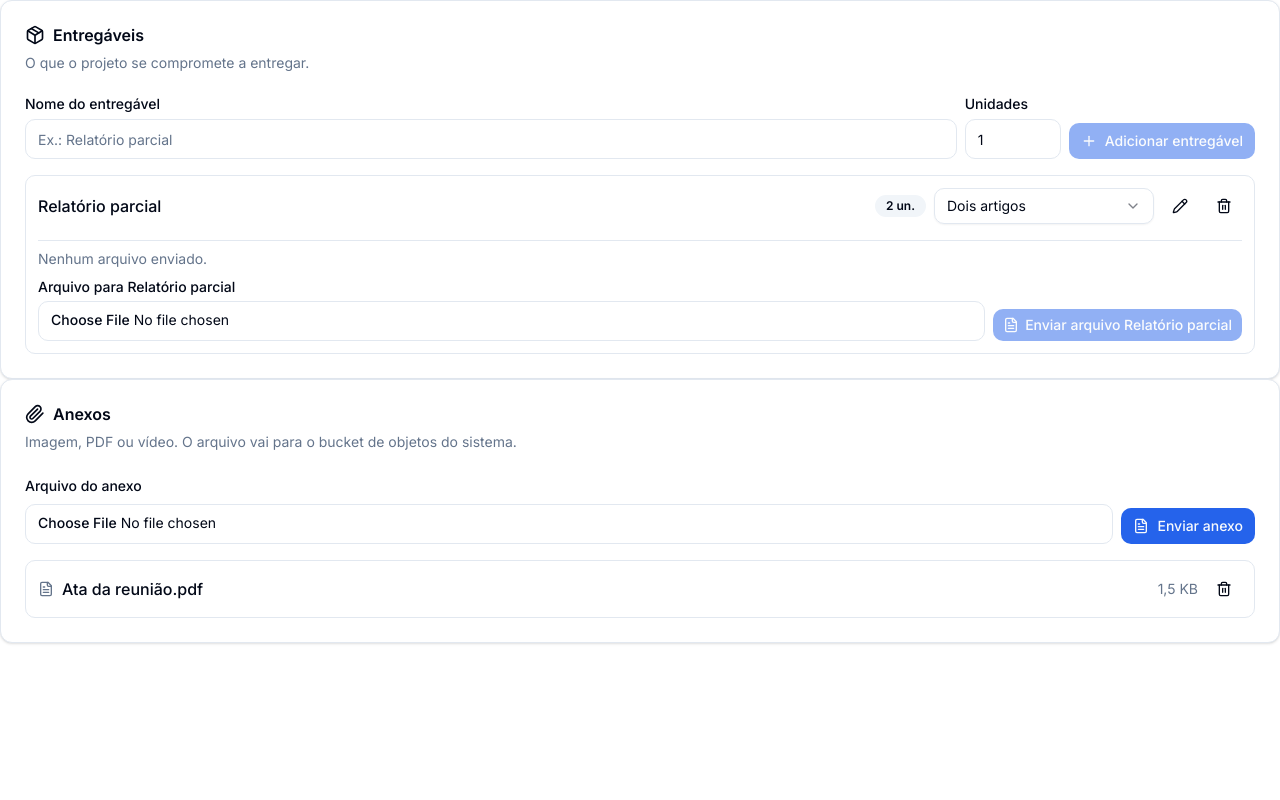
Test: vínculo entregável ↔ meta (S04, DEC-259) › mudar para Sem meta manda PUT só com goalId null
Check: the text "Relatório parcial" is shown, box [38,196,161,216]
Click the dropdown named "Meta para Relatório parcial" at [1044, 206], box [934,188,1154,224]
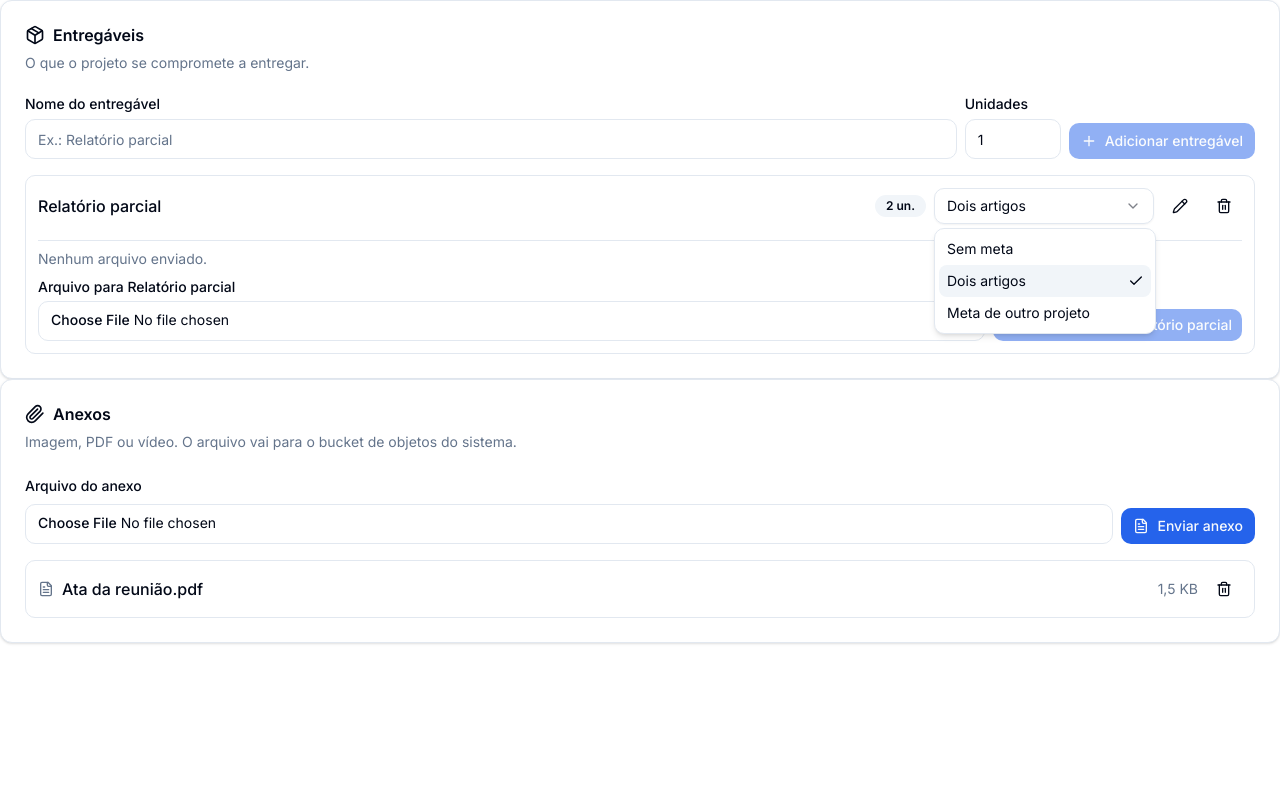
Click the option "Sem meta" at [980, 248], box [947,240,1013,257]
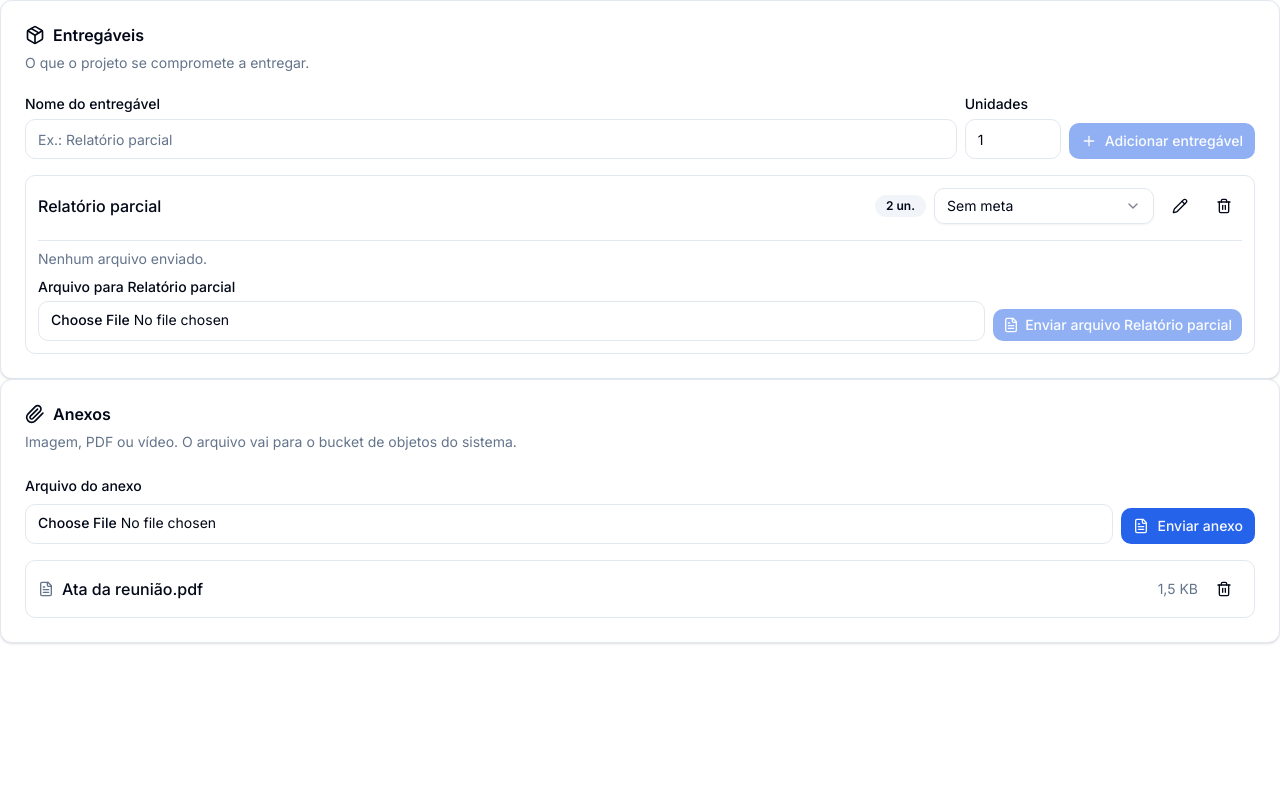
Check: the dropdown named "Meta para Relatório parcial" reads "Sem meta", box [934,188,1154,224]
